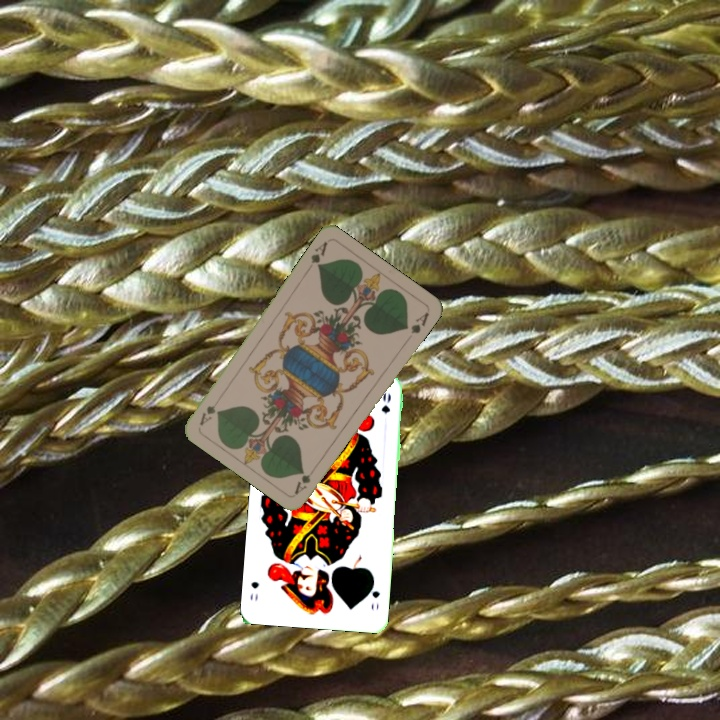GA: (303, 237, 330, 274), (290, 470, 313, 497)
GO: (366, 576, 382, 613)
